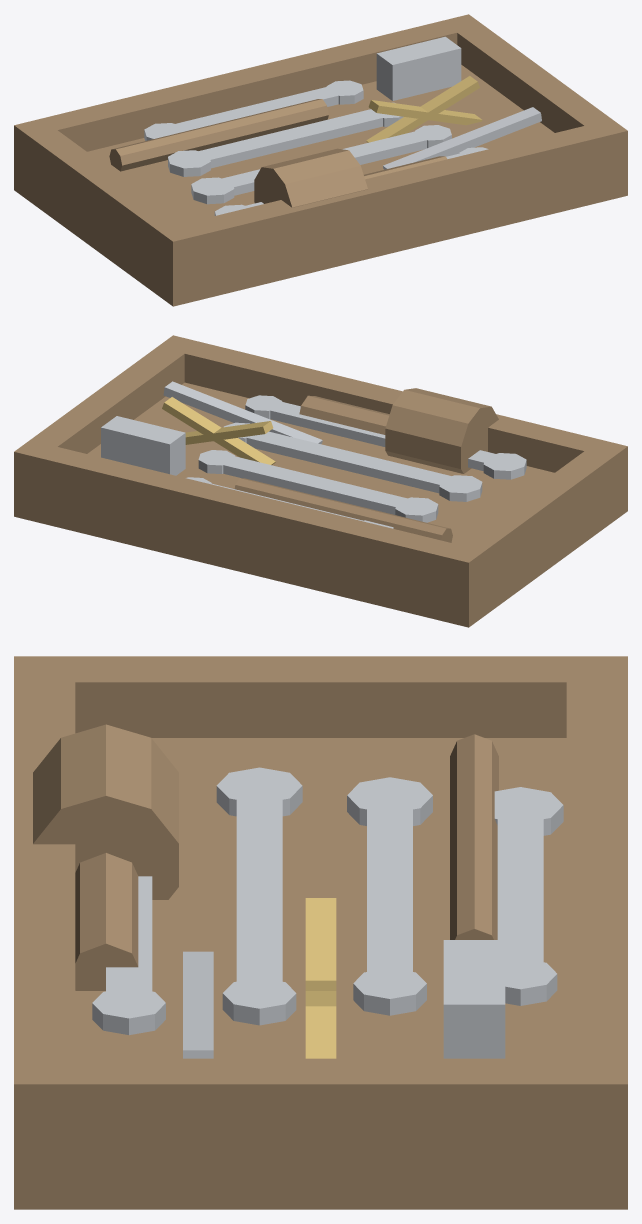
Rendered from steampunk-airship-dock-and-workshop-hand-tool-tray-ce35e1b5__36076.glb.
3 renders of one model, top to bottom at view 1: azimuth 30°, elevation 25°; view 2: azimuth 150°, elevation 25°; view 3: azimuth 270°, elevation 25°, orthographic. The views are drawn at different scales.
Parts seen in each view (by area): view 1: hand-tool-tray; view 2: hand-tool-tray; view 3: hand-tool-tray.
Part boxes in pixels (<box>): hand-tool-tray: <box>14,14,627,306</box>; hand-tool-tray: <box>14,335,627,627</box>; hand-tool-tray: <box>14,656,627,1209</box>.
Size of the model in its own units: 0.66 by 0.125 by 0.4.
